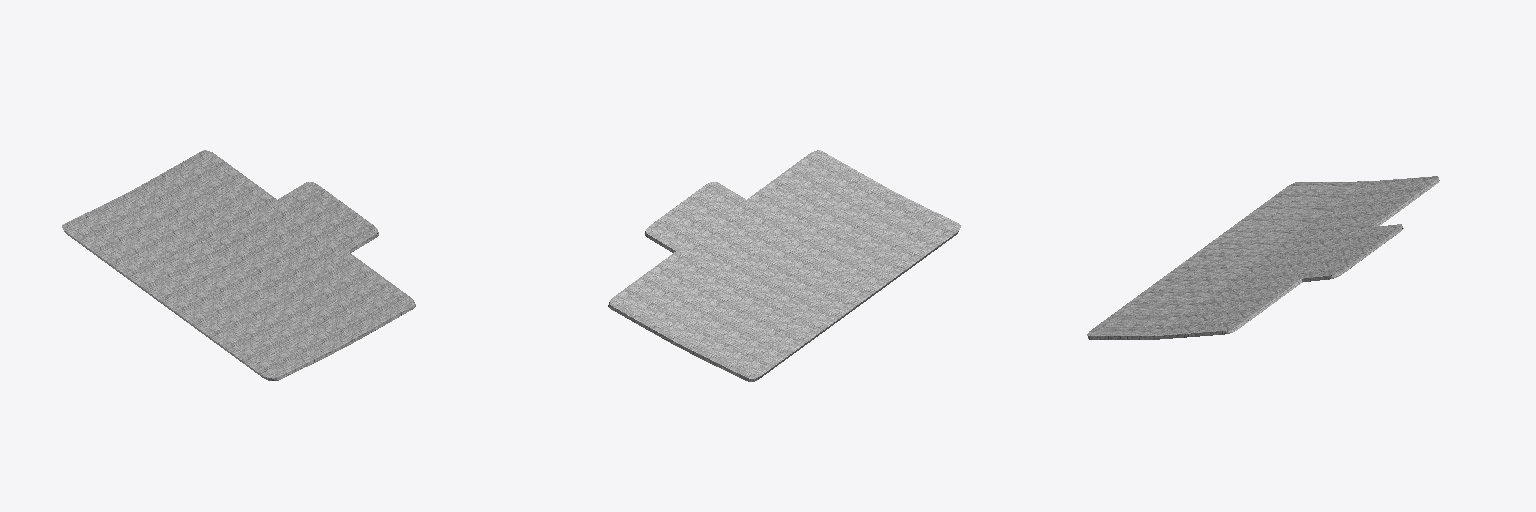
3 renders of one model, left to right at view 1: azimuth 30°, elevation 25°; view 2: azimuth 150°, elevation 25°; view 3: azimuth 330°, elevation 25°, orthographic.
Visible parts, largest first — view 1: Foundations; view 2: Foundations; view 3: Foundations.
Part boxes in pixels (x1,y1,x2,y2): Foundations: (62,150,415,380); Foundations: (608,150,960,381); Foundations: (1087,176,1439,339).
Size of the model in its own units: 6.43 by 1.92 by 12.82.
1 materials, 1 textured.